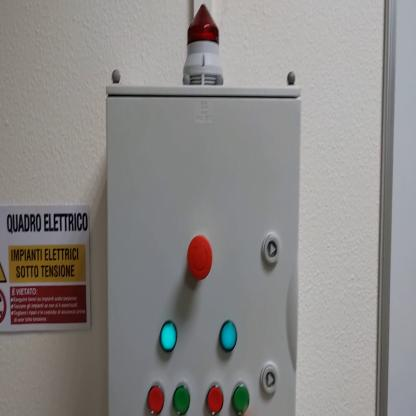left green button: (173, 381, 192, 413), (233, 385, 251, 414)
left red button: (149, 383, 166, 413)
right red button: (208, 384, 225, 412)
